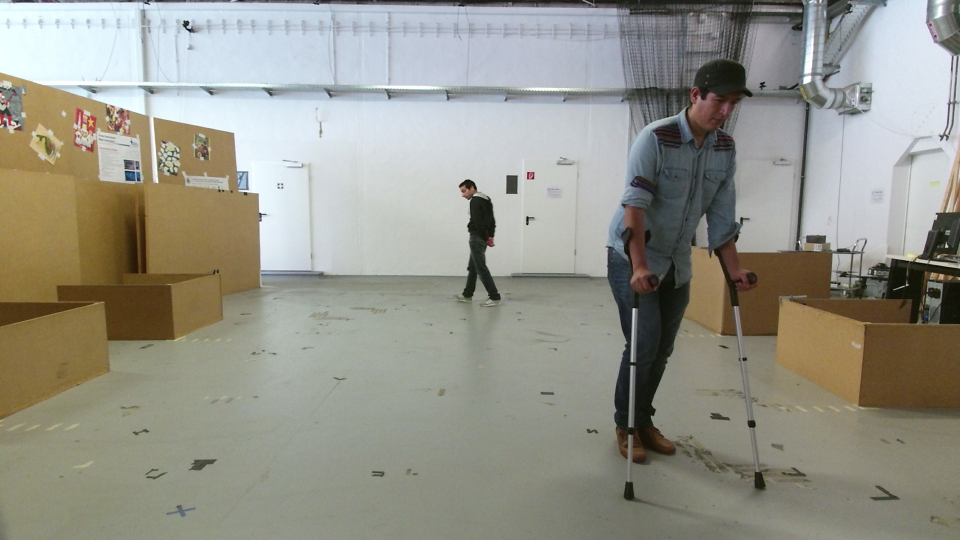crutches: (592, 59, 775, 501)
